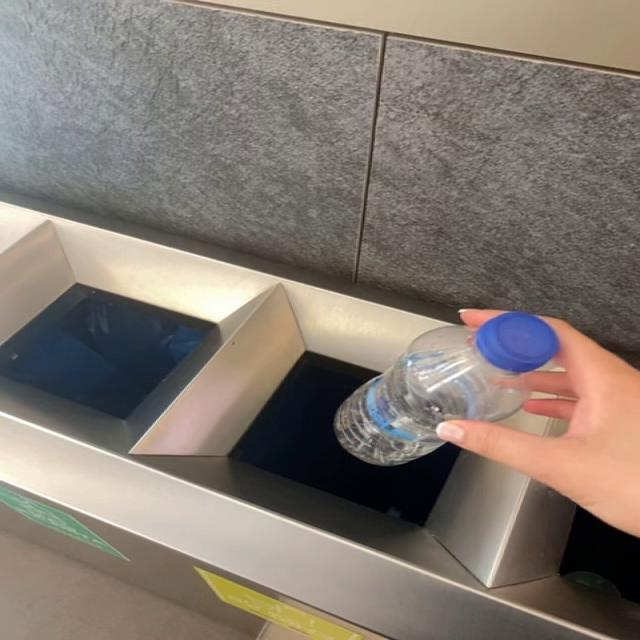plastic: (335, 312, 560, 466)
